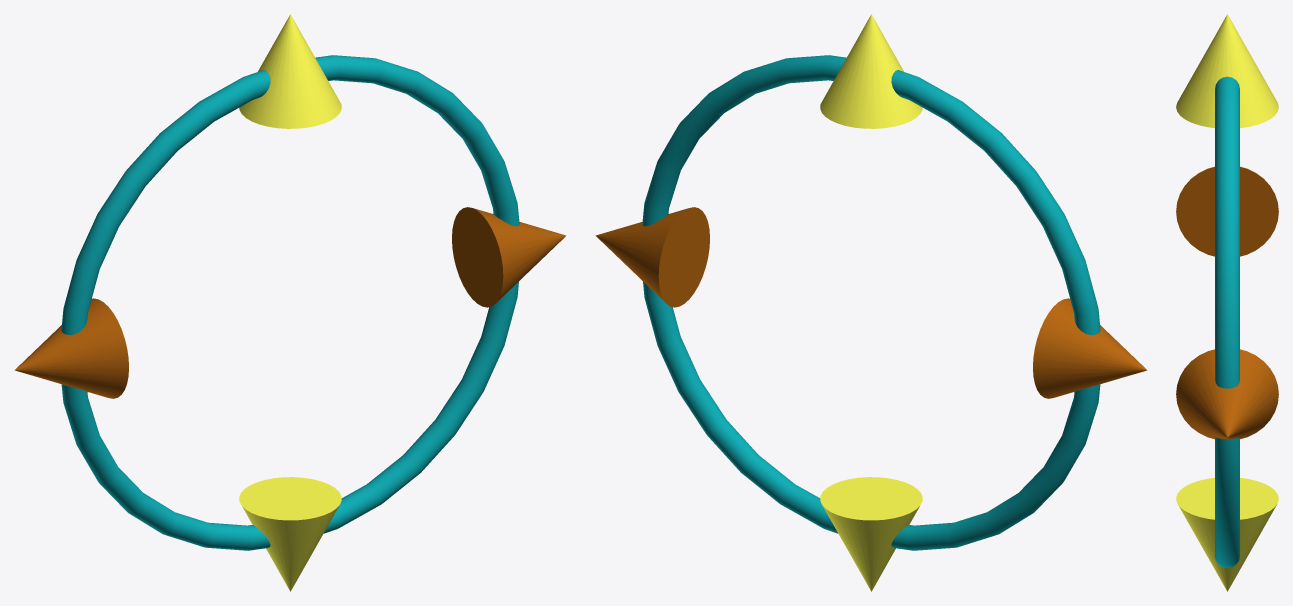
Rendered from ring.fbx.
The picture shows the model from 3 angles, left to right: view 1: azimuth 30°, elevation 25°; view 2: azimuth 150°, elevation 25°; view 3: azimuth 270°, elevation 25°; orthographic projection.
Parts seen in each view (by area): view 1: Torus, Cone.2, Cone.1, Cone.1.1, Cone; view 2: Torus, Cone.2, Cone.1, Cone.1.1, Cone; view 3: Torus, Cone.2, Cone, Cone.1.1, Cone.1.
Part boxes in pixels (x1,y1,x2,y2): Torus: (61,55,519,550); Cone.2: (452,207,566,307); Cone.1: (239,477,341,591); Cone.1.1: (14,298,128,398); Cone: (239,14,341,128); Torus: (642,55,1100,550); Cone.2: (595,207,709,307); Cone.1: (820,477,922,591); Cone.1.1: (1033,298,1147,398); Cone: (820,14,922,128); Torus: (1215,76,1239,568); Cone.2: (1176,349,1278,439); Cone: (1176,14,1278,127); Cone.1.1: (1176,166,1278,256); Cone.1: (1176,478,1278,591).
Size of the model in its own units: 0.2522 by 0.2522 by 0.0407.
